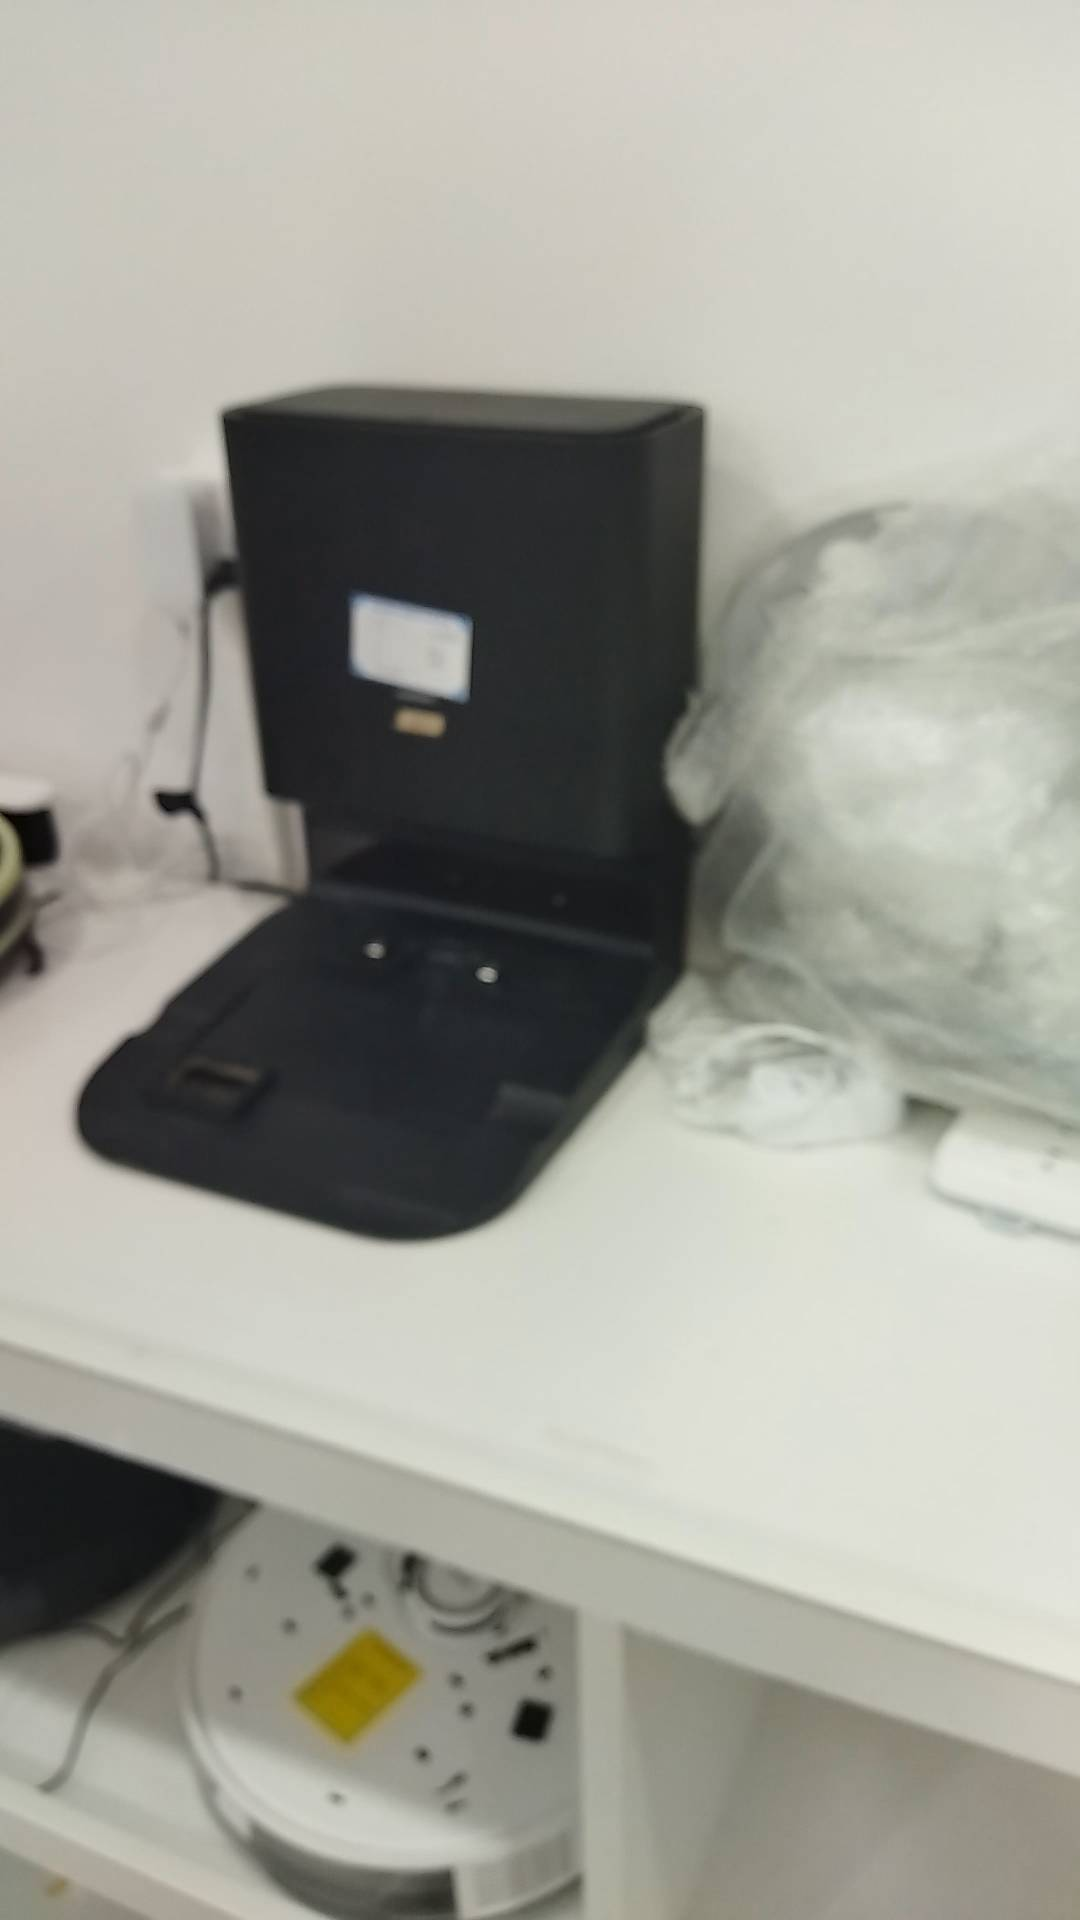dust collecting barrel: (80, 386, 715, 1244)
